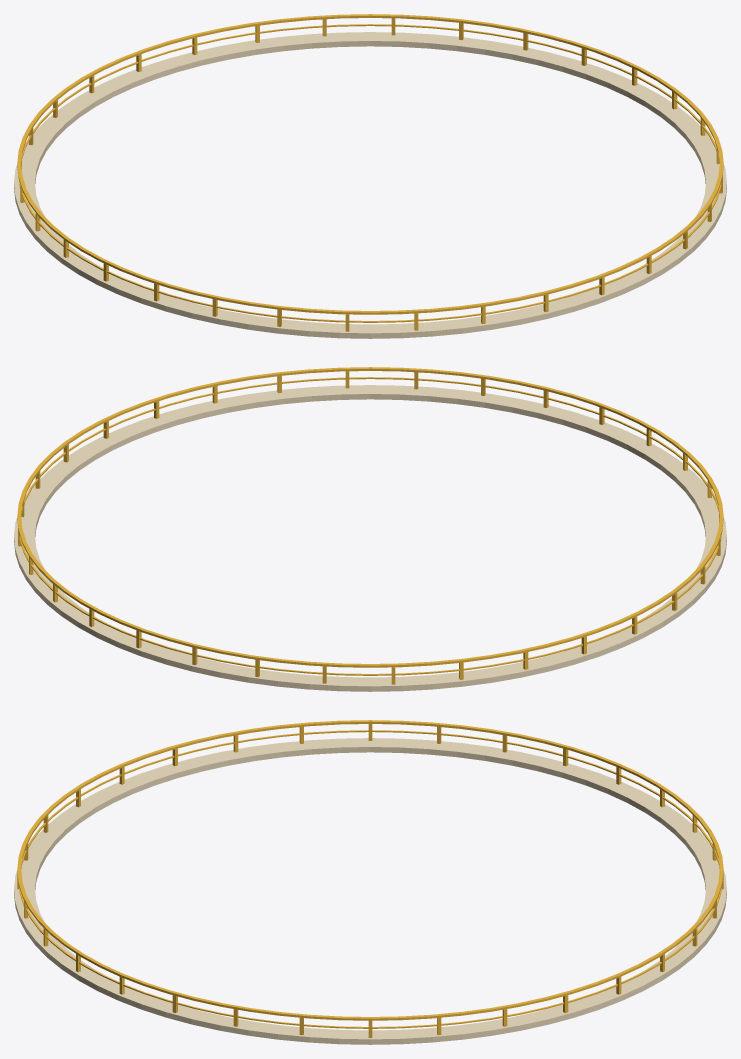
The model's file is Pit_Stufe.fbx.
3 views of the same model, one above another, from view 1: azimuth 30°, elevation 25°; view 2: azimuth 150°, elevation 25°; view 3: azimuth 270°, elevation 25° (orthographic).
Parts seen in each view (by area): view 1: Pit_Stufe_Rand, Pit_Stufe_Gold; view 2: Pit_Stufe_Rand, Pit_Stufe_Gold; view 3: Pit_Stufe_Rand, Pit_Stufe_Gold.
Boxes of the visible parts, <box> form: Pit_Stufe_Rand: <box>14,32,726,338</box>; Pit_Stufe_Gold: <box>17,14,723,331</box>; Pit_Stufe_Rand: <box>14,385,726,691</box>; Pit_Stufe_Gold: <box>17,367,723,684</box>; Pit_Stufe_Rand: <box>14,738,726,1044</box>; Pit_Stufe_Gold: <box>17,720,723,1037</box>.
Bounding box in the file's own units: 54.2 × 2.08 × 54.2.
